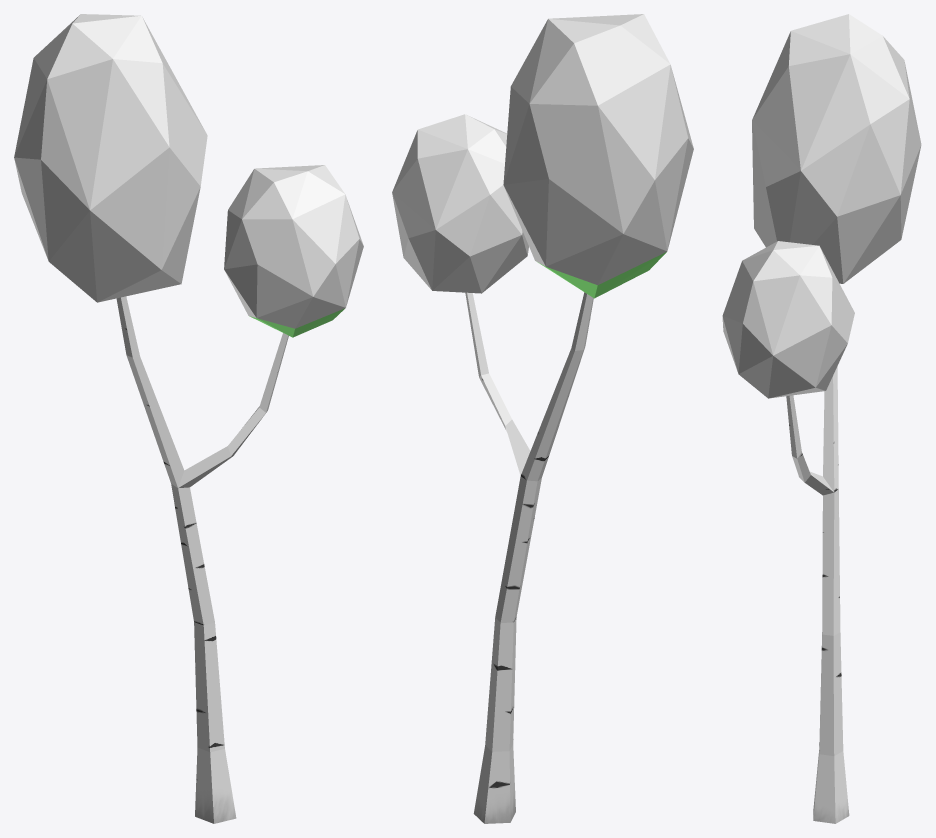
The model's file is Birch_Tree_m_Snow_BT_02.fbx.
The picture shows the model from 3 angles, left to right: view 1: azimuth 30°, elevation 25°; view 2: azimuth 150°, elevation 25°; view 3: azimuth 270°, elevation 25°; orthographic projection. The views are drawn at different scales.
Visible parts, largest first — view 1: Birch_Tree_m_Snow_BT_02; view 2: Birch_Tree_m_Snow_BT_02; view 3: Birch_Tree_m_Snow_BT_02.
Part boxes in pixels (left/top/right/bottom): Birch_Tree_m_Snow_BT_02: left=14, top=14, right=363, bottom=823; Birch_Tree_m_Snow_BT_02: left=392, top=14, right=693, bottom=823; Birch_Tree_m_Snow_BT_02: left=722, top=14, right=921, bottom=823.
Bounding box in the file's own units: 372 × 970 × 236.
